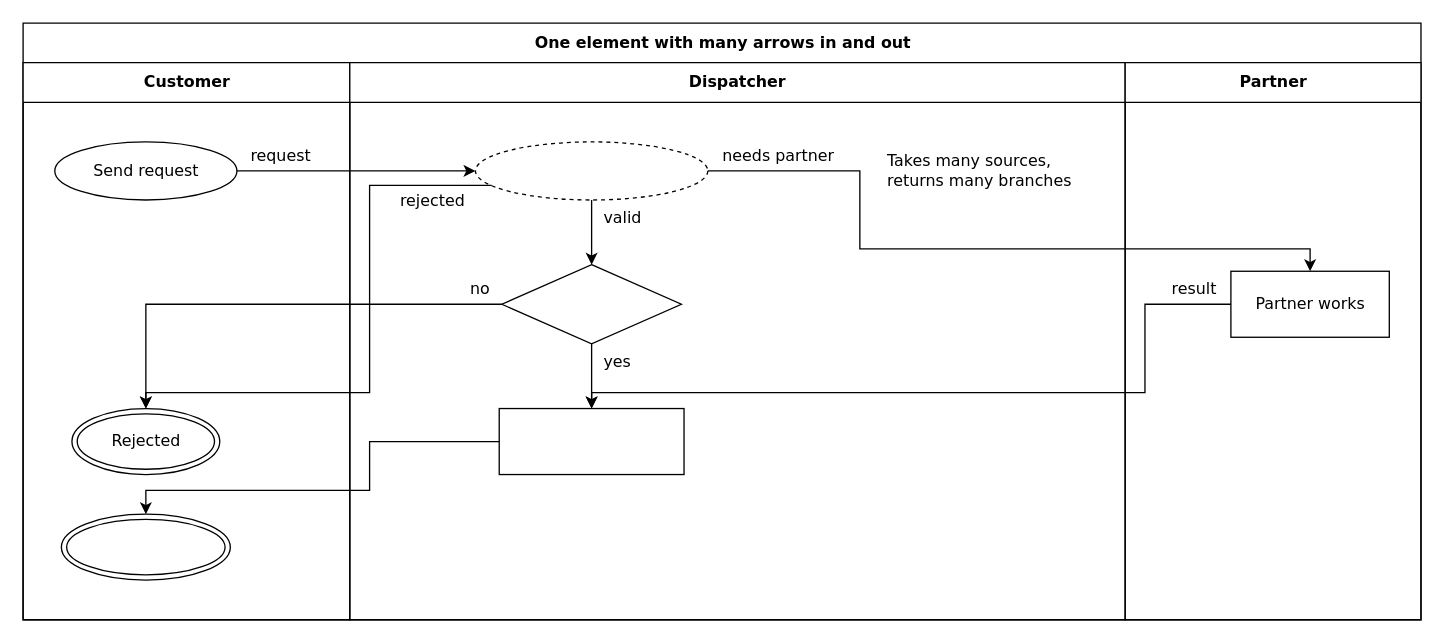
This 1444x643 diagram has some shape labels left out. The shapes that lost their labels are listed below. From the top down, each one's centre as x and y in pixels, then its label:
At pixel 591 170: "Dispatch gateway".
At pixel 591 303: "Within limit?".
At pixel 591 441: "Aggregate results".
At pixel 145 546: "Completed".
